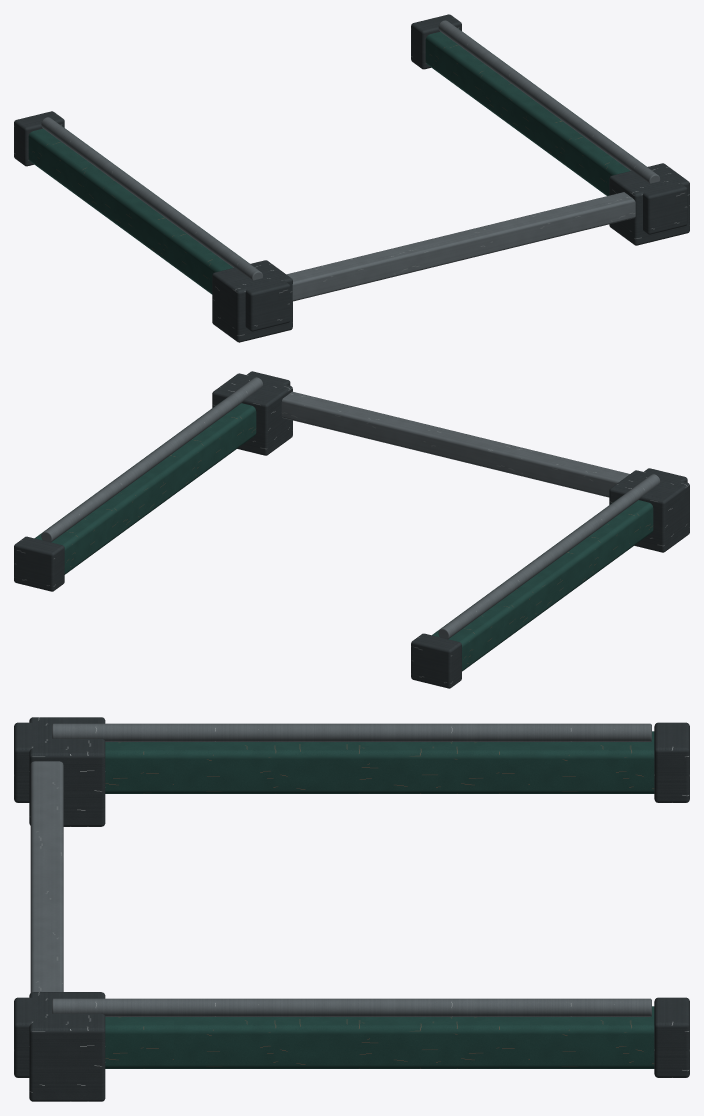
Rendered from fabricator_gantry.glb.
3 renders of one model, top to bottom at view 1: azimuth 30°, elevation 25°; view 2: azimuth 150°, elevation 25°; view 3: azimuth 270°, elevation 25°, orthographic. The views are drawn at different scales.
Parts seen in each view (by area): view 1: Rear frame tie, Fore aft box rail, Fore aft box rail.001, Fore aft guide shaft, Fore aft guide shaft.001, Guide mounting shoe, Guide mounting shoe.001, Travel end cap.001, Travel end cap.003, Travel end cap.002, Travel end cap; view 2: Rear frame tie, Fore aft box rail.001, Fore aft box rail, Fore aft guide shaft, Fore aft guide shaft.001, Guide mounting shoe, Guide mounting shoe.001, Travel end cap, Travel end cap.002; view 3: Fore aft box rail, Fore aft box rail.001, Fore aft guide shaft, Fore aft guide shaft.001, Rear frame tie, Guide mounting shoe.001, Guide mounting shoe, Travel end cap, Travel end cap.002, Travel end cap.003, Travel end cap.001.
Part boxes in pixels (x1,y1,x2,y2): Rear frame tie: [286, 192, 635, 301]; Fore aft box rail: [28, 125, 249, 294]; Fore aft box rail.001: [425, 28, 646, 195]; Fore aft guide shaft: [41, 117, 262, 280]; Fore aft guide shaft.001: [438, 20, 660, 183]; Guide mounting shoe: [212, 260, 292, 342]; Guide mounting shoe.001: [609, 163, 689, 245]; Travel end cap.001: [245, 278, 290, 331]; Travel end cap.003: [641, 183, 687, 234]; Travel end cap.002: [411, 14, 461, 69]; Travel end cap: [14, 111, 64, 166]; Rear frame tie: [281, 391, 629, 497]; Fore aft box rail.001: [35, 400, 256, 574]; Fore aft box rail: [432, 497, 653, 671]; Fore aft guide shaft: [438, 474, 660, 639]; Fore aft guide shaft.001: [41, 377, 262, 542]; Guide mounting shoe: [609, 470, 689, 552]; Guide mounting shoe.001: [212, 373, 292, 455]; Travel end cap: [411, 633, 461, 688]; Travel end cap.002: [14, 536, 64, 591]; Fore aft box rail: [105, 731, 654, 793]; Fore aft box rail.001: [105, 1006, 654, 1068]; Fore aft guide shaft: [52, 723, 651, 741]; Fore aft guide shaft.001: [52, 998, 651, 1016]; Rear frame tie: [30, 761, 63, 992]; Guide mounting shoe.001: [29, 992, 105, 1101]; Guide mounting shoe: [29, 717, 105, 826]; Travel end cap: [654, 722, 689, 802]; Travel end cap.002: [654, 997, 689, 1077]; Travel end cap.003: [14, 997, 45, 1077]; Travel end cap.001: [14, 722, 45, 802].
Size of the model in its own units: 1.46 by 0.183 by 1.33.
Materials: 3 (3 with a texture image).
